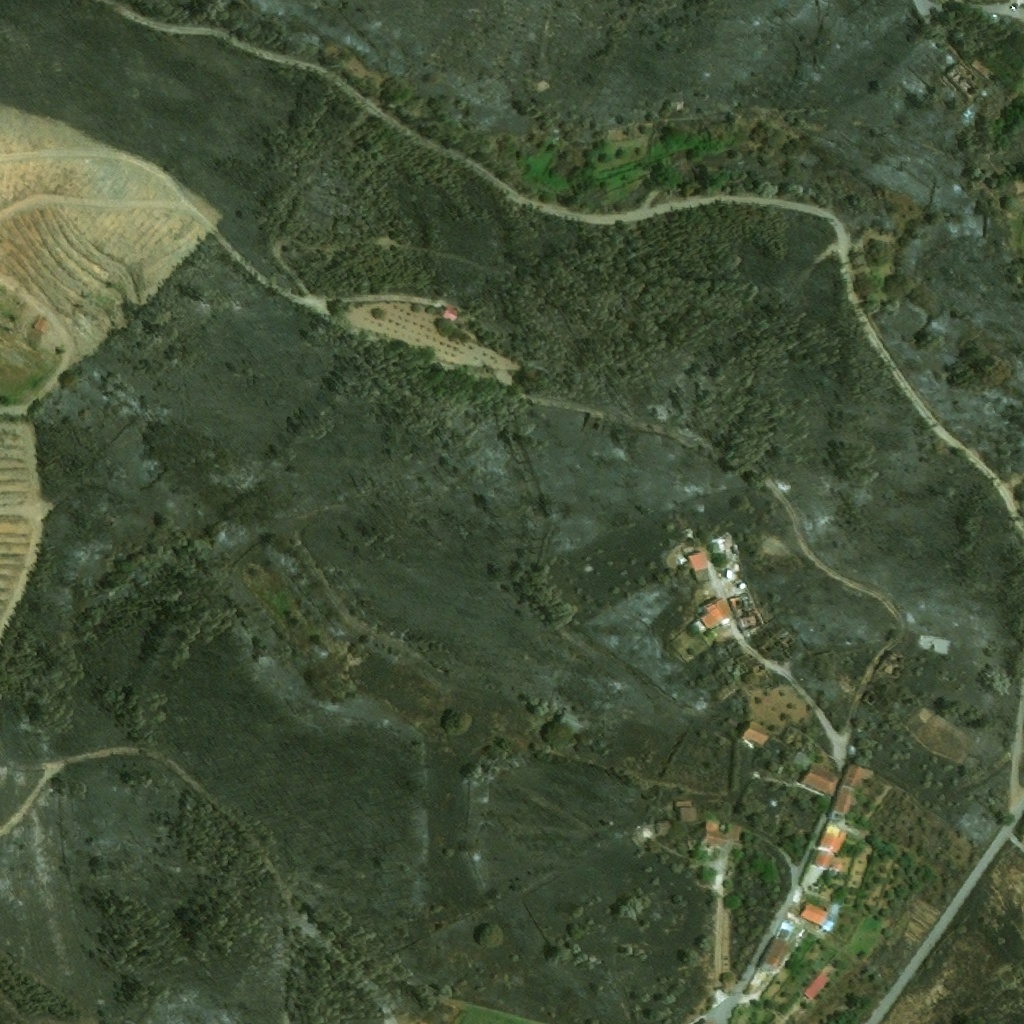0 no-damage: (828, 764, 872, 820), (692, 596, 733, 634), (800, 762, 840, 797), (703, 820, 741, 847), (800, 902, 834, 931), (803, 971, 831, 1001), (763, 937, 790, 967), (741, 722, 770, 747), (688, 550, 711, 581), (673, 801, 695, 819), (791, 750, 811, 768), (781, 918, 795, 932)
1 minor-damage: (813, 822, 848, 875)
3 destroyed: (728, 594, 764, 632), (947, 64, 982, 99), (879, 649, 907, 679), (761, 634, 795, 657), (559, 709, 590, 734), (918, 634, 952, 656), (970, 58, 993, 79), (654, 820, 670, 831), (962, 107, 974, 118), (643, 830, 651, 838)
